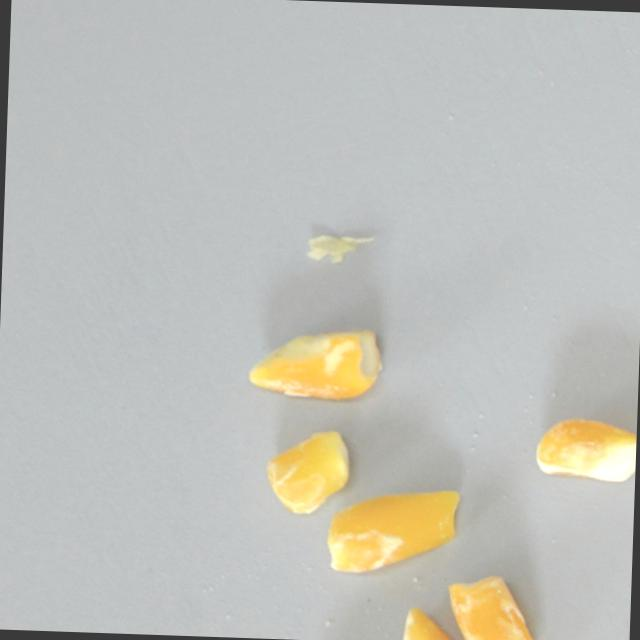pelicula: (321, 486, 468, 567), (243, 323, 385, 403), (262, 423, 351, 514), (533, 414, 637, 483), (435, 588, 553, 640), (400, 603, 475, 640), (300, 229, 378, 263)
